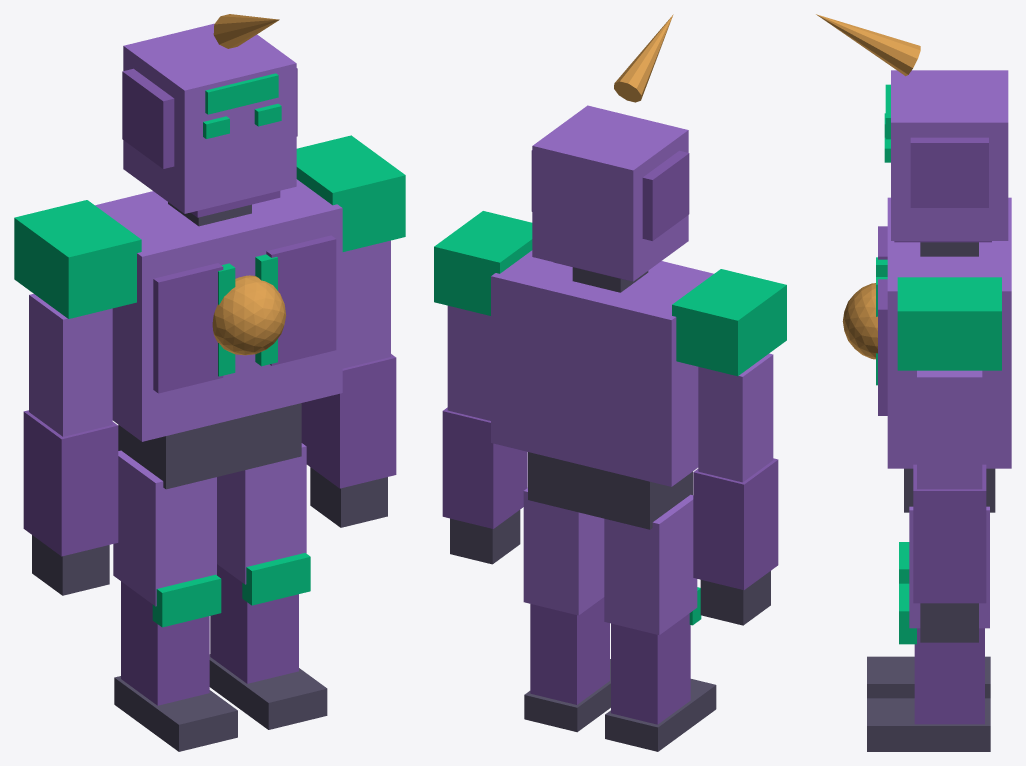
The model's file is eva-01.glb.
3 views of the same model, side by side, from view 1: azimuth 30°, elevation 25°; view 2: azimuth 150°, elevation 25°; view 3: azimuth 270°, elevation 25° (orthographic). The views are drawn at different scales.
Parts seen in each view (by area): view 1: chest, head, shoulder_-1, forearm_-1, thigh_-1, upperarm_-1, forearm_1, thigh_1, pelvis, shoulder_1, shin_-1, chest_plate_l (+17 smaller); view 2: chest, head, thigh_-1, shoulder_-1, forearm_-1, thigh_1, upperarm_-1, forearm_1, shin_-1, pelvis, shin_1, shoulder_1 (+8 smaller); view 3: head, chest, shoulder_1, forearm_1, upperarm_1, shin_1, fin_r, foot_1, hand_1, foot_-1, core, horn (+6 smaller).
Boxes of the visible parts, left/top/right/bottom form: chest: left=95, top=179, right=342, bottom=441; head: left=123, top=23, right=296, bottom=213; shoulder_-1: left=14, top=200, right=141, bottom=318; forearm_-1: left=23, top=410, right=118, bottom=556; thigh_-1: left=113, top=450, right=216, bottom=606; upperarm_-1: left=29, top=294, right=112, bottom=436; forearm_1: left=301, top=354, right=396, bottom=488; thigh_1: left=217, top=443, right=306, bottom=584; pelvis: left=118, top=403, right=301, bottom=489; shoulder_1: left=296, top=135, right=405, bottom=251; shin_-1: left=121, top=581, right=209, bottom=705; chest_plate_l: left=153, top=263, right=223, bottom=393; chest: left=491, top=250, right=713, bottom=486; head: left=532, top=105, right=688, bottom=281; thigh_-1: left=604, top=494, right=697, bottom=635; shoulder_-1: left=672, top=269, right=786, bottom=376; forearm_-1: left=693, top=458, right=778, bottom=589; thigh_1: left=523, top=488, right=604, bottom=615; upperarm_-1: left=698, top=353, right=773, bottom=482; forearm_1: left=442, top=407, right=527, bottom=528; shin_-1: left=611, top=613, right=690, bottom=724; pelvis: left=528, top=452, right=692, bottom=529; shin_1: left=530, top=597, right=609, bottom=704; shoulder_1: left=434, top=211, right=532, bottom=315; head: left=891, top=70, right=1008, bottom=240; chest: left=887, top=197, right=1011, bottom=468; shoulder_1: left=897, top=277, right=1001, bottom=370; forearm_1: left=913, top=464, right=986, bottom=603; upperarm_1: left=917, top=370, right=982, bottom=489; shin_1: left=914, top=628, right=984, bottom=724; fin_r: left=910, top=137, right=988, bottom=207; foot_1: left=867, top=698, right=990, bottom=751; hand_1: left=920, top=603, right=978, bottom=642; foot_-1: left=867, top=656, right=990, bottom=698; core: left=842, top=283, right=877, bottom=359; horn: left=816, top=14, right=920, bottom=76.
Bounding box in the file's own units: 2.86 × 5.95 × 1.51.
